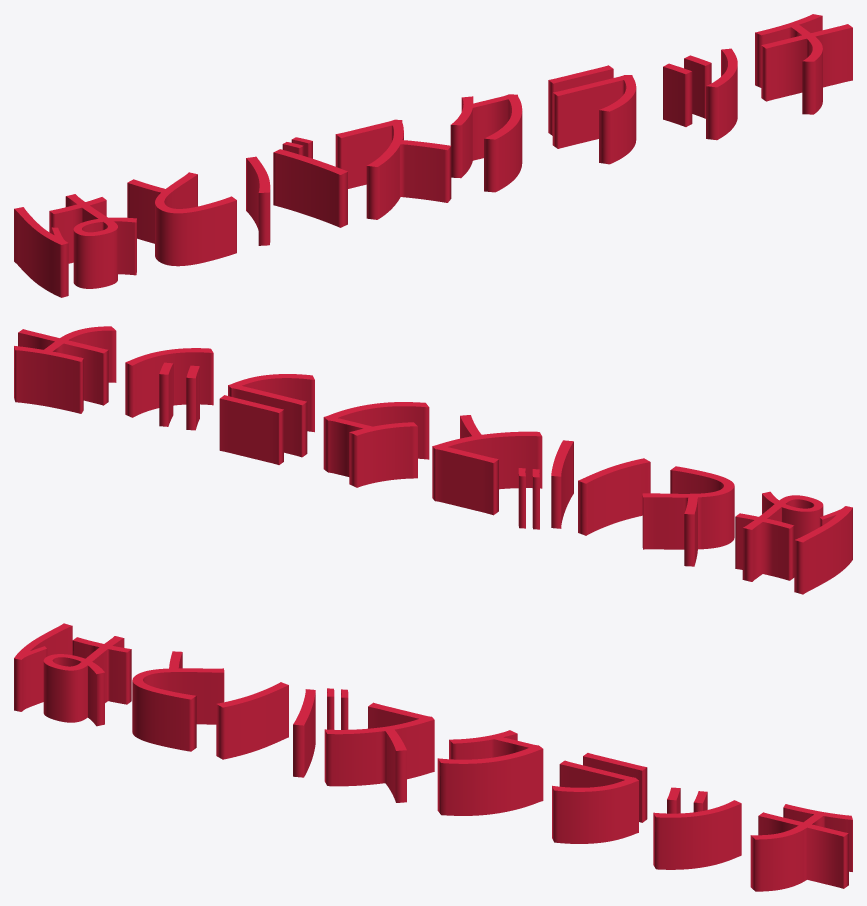
Rendered from letter.glb.
3 views of the same model, one above another, from view 1: azimuth 30°, elevation 25°; view 2: azimuth 150°, elevation 25°; view 3: azimuth 330°, elevation 25° (orthographic).
Parts seen in each view (by area): view 1: テキスト.001; view 2: テキスト.001; view 3: テキスト.001.
Boxes of the visible parts, x1,y1,x2,y2 form: テキスト.001: [14, 14, 852, 297]; テキスト.001: [14, 326, 852, 594]; テキスト.001: [14, 623, 852, 891].
Bounding box in the file's own units: 7.8 × 0.48 × 0.894.
